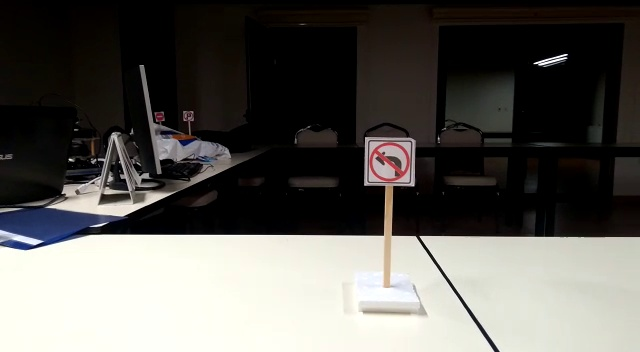sola_donulmez: (368, 137, 410, 181)
